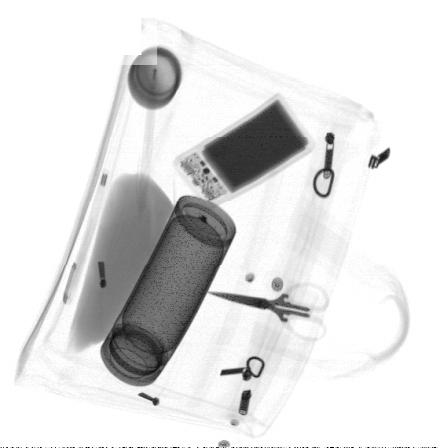Powerbank: (173, 88, 319, 215)
Scissors: (207, 281, 332, 344)
